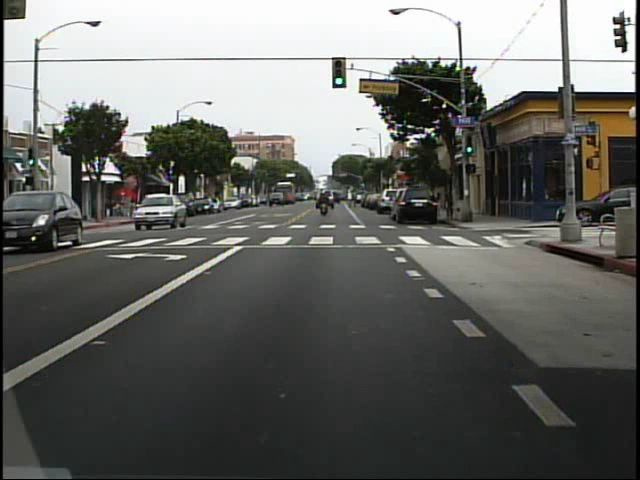person: (317, 188, 330, 216)
